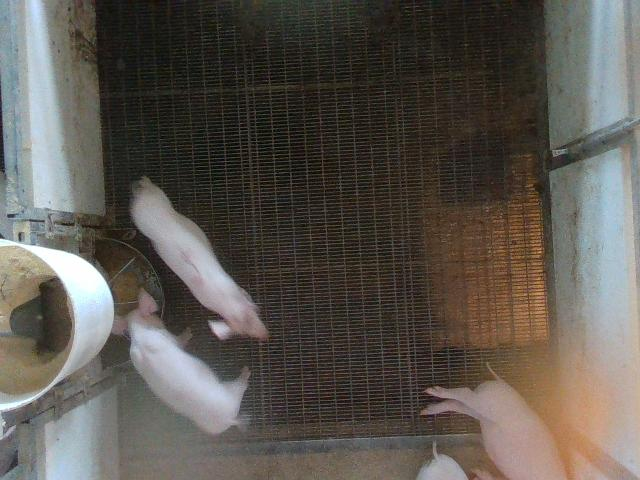pig-5: (130, 178, 269, 340)
